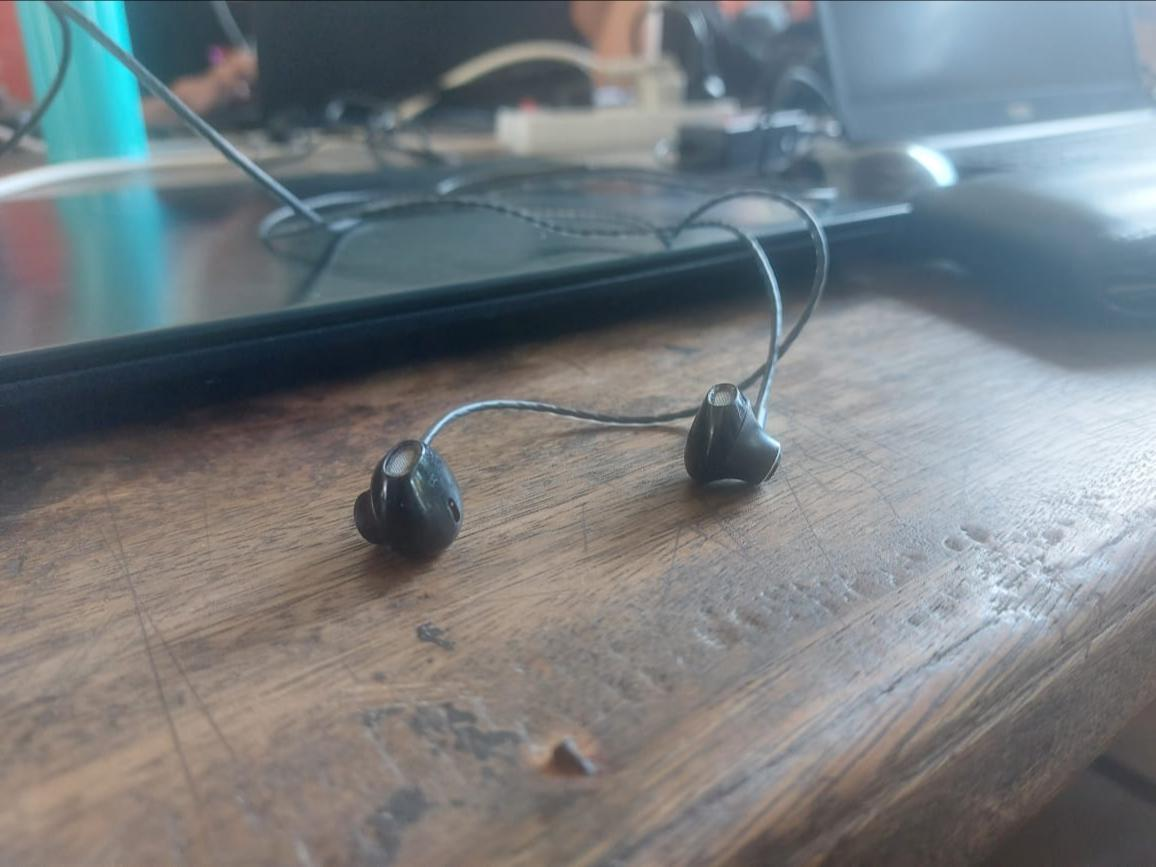Earphone: (331, 428, 480, 556), (663, 363, 795, 492)
